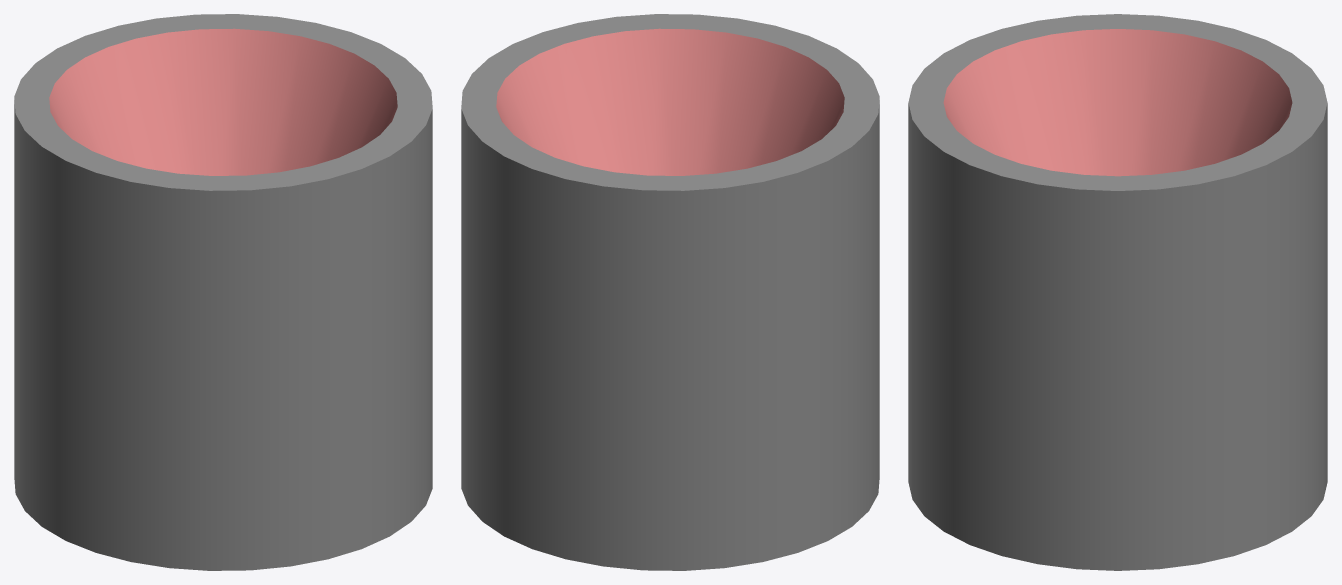
Rendered from SM_ExhaustCylinder.gltf.
3 renders of one model, left to right at view 1: azimuth 30°, elevation 25°; view 2: azimuth 150°, elevation 25°; view 3: azimuth 270°, elevation 25°, orthographic.
Parts seen in each view (by area): view 1: SM_ExhaustCylinder; view 2: SM_ExhaustCylinder; view 3: SM_ExhaustCylinder.
Part boxes in pixels (<box>): SM_ExhaustCylinder: <box>14,14,432,570</box>; SM_ExhaustCylinder: <box>461,14,879,570</box>; SM_ExhaustCylinder: <box>908,14,1327,570</box>.
Size of the model in its own units: 0.3 by 0.3 by 0.3.
